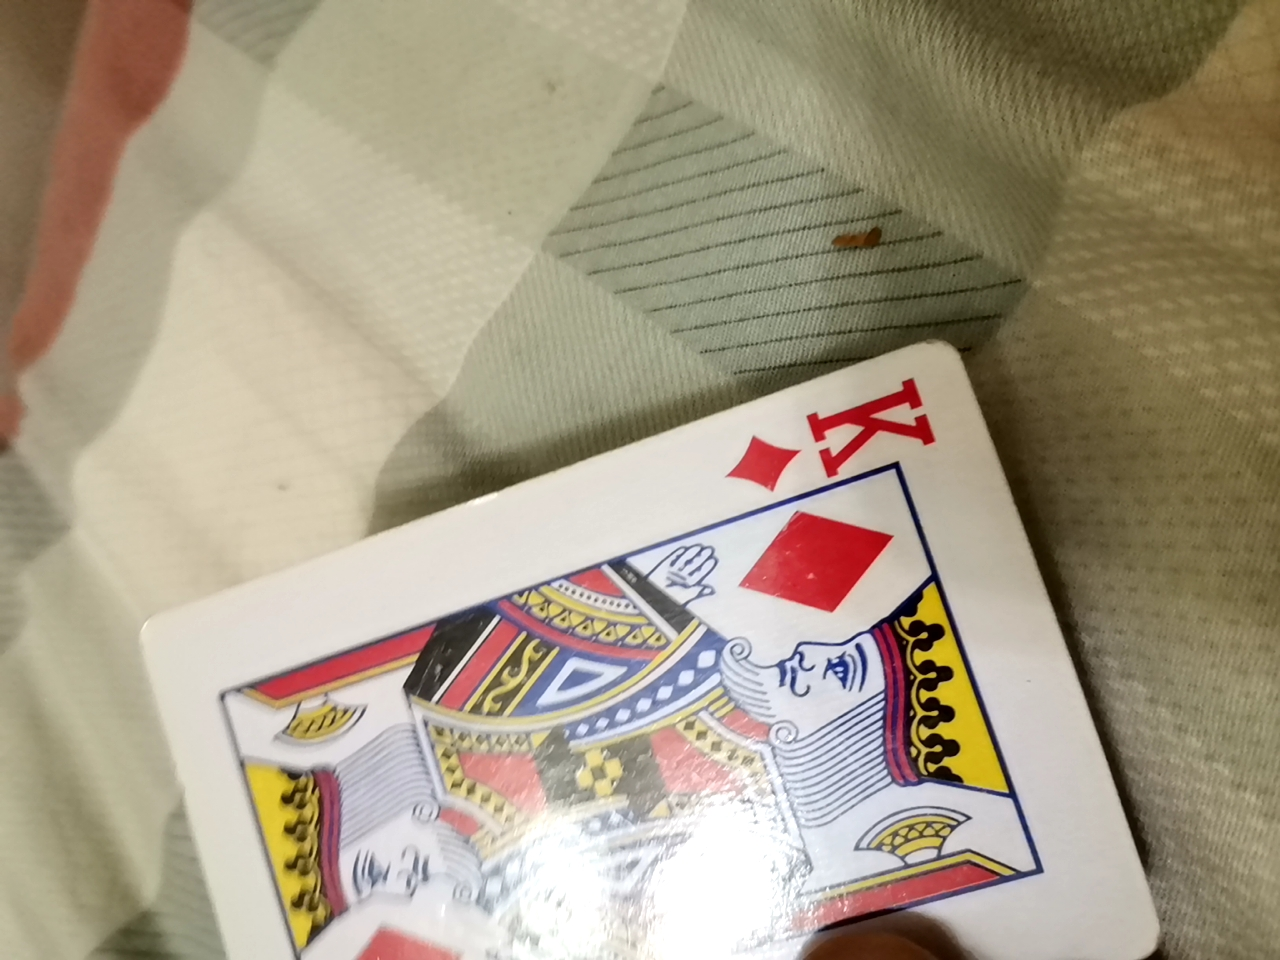fk k: (108, 334, 1175, 950)
